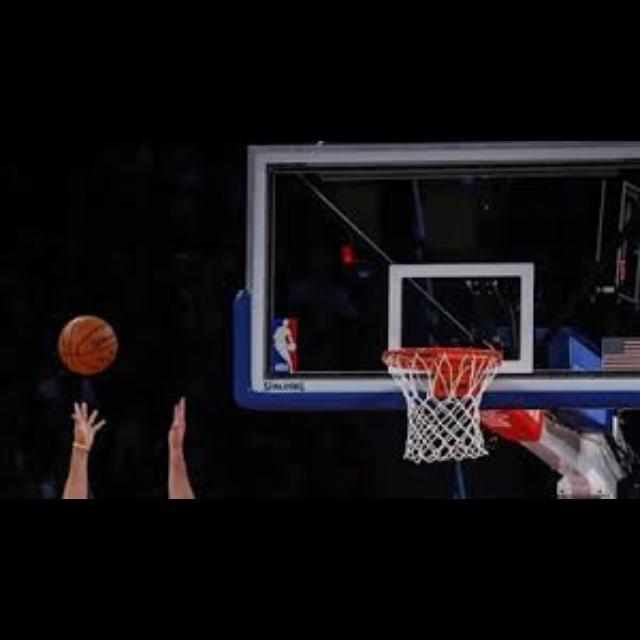basketball: (56, 314, 120, 374)
rim: (382, 348, 500, 462)
